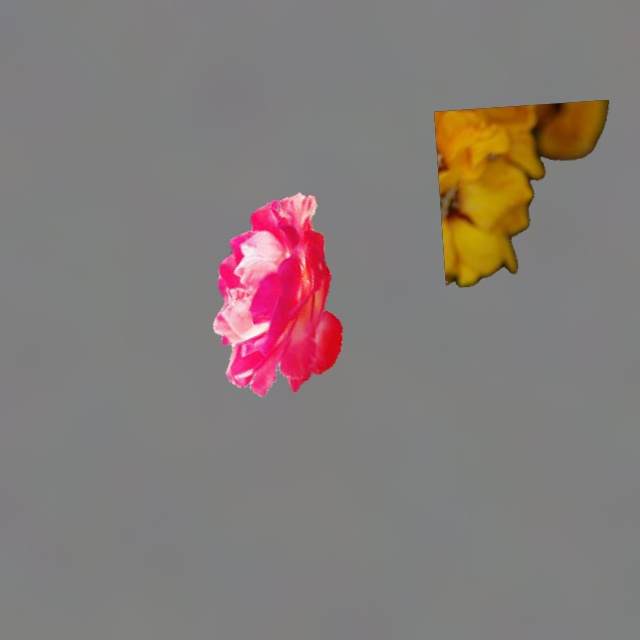rose: (213, 192, 342, 396)
wallflower: (434, 100, 608, 286)
